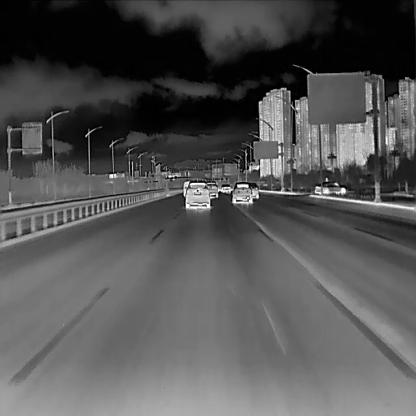car: (185, 180, 210, 208), (232, 182, 252, 203), (314, 181, 346, 194), (204, 182, 218, 198), (248, 182, 259, 198), (183, 180, 191, 196), (222, 184, 230, 192)
